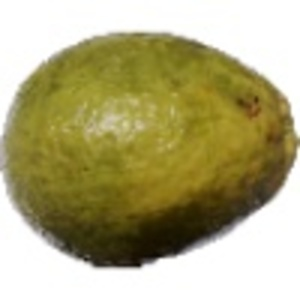goiaba: (3, 25, 297, 266)
